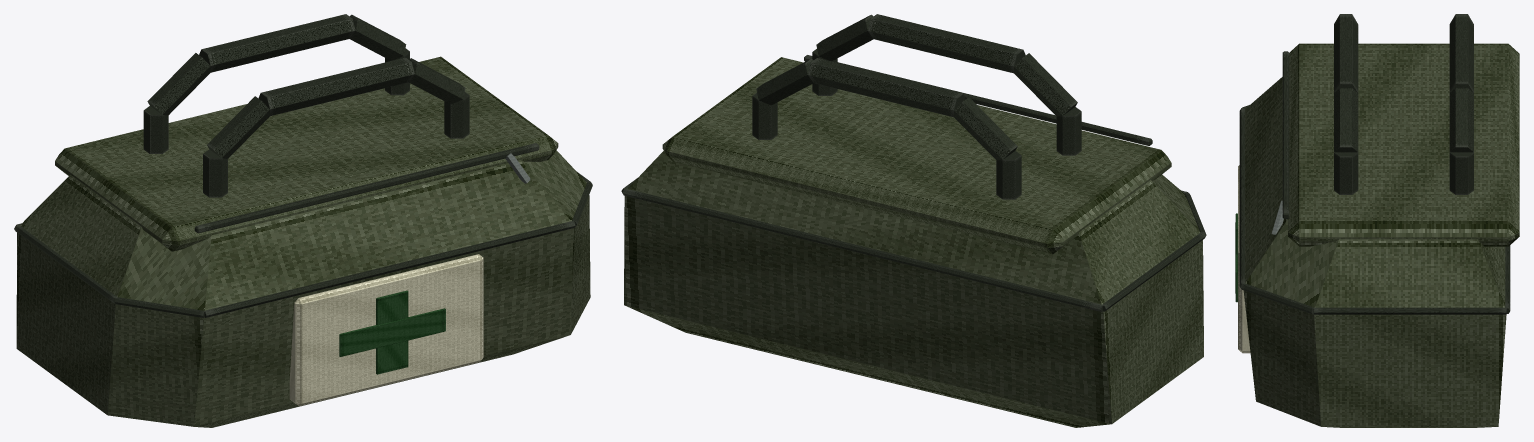
File: blender_health_supplies_3.glb
The picture shows the model from 3 angles, left to right: view 1: azimuth 30°, elevation 25°; view 2: azimuth 150°, elevation 25°; view 3: azimuth 270°, elevation 25°; orthographic projection. The views are drawn at different scales.
Parts seen in each view (by area): view 1: blender_health_supplies_3; view 2: blender_health_supplies_3; view 3: blender_health_supplies_3.
Part boxes in pixels (x1,y1,x2,y2): blender_health_supplies_3: (14, 14, 592, 427); blender_health_supplies_3: (621, 14, 1206, 427); blender_health_supplies_3: (1235, 14, 1519, 427).
Size of the model in its own units: 0.245 by 0.1428 by 0.1282.
Materials: 5 (5 with a texture image).
